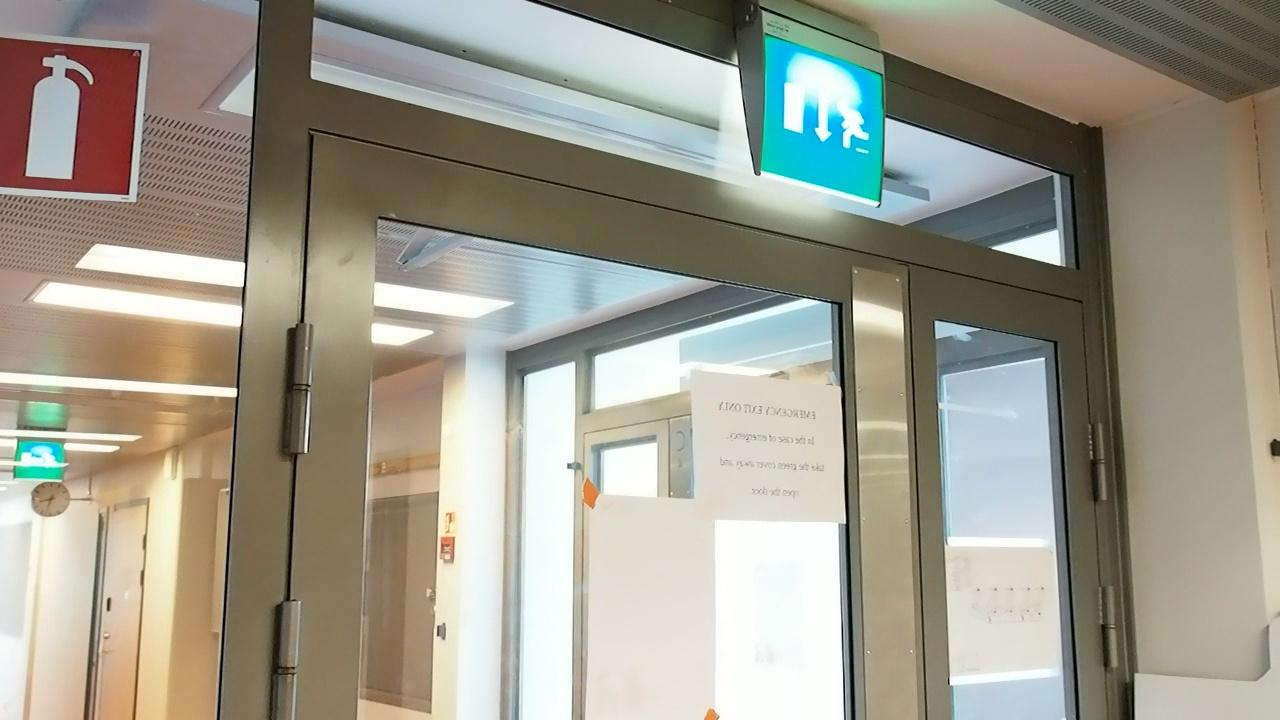exit: (759, 40, 887, 192)
fireextinguisher: (5, 37, 129, 191)
